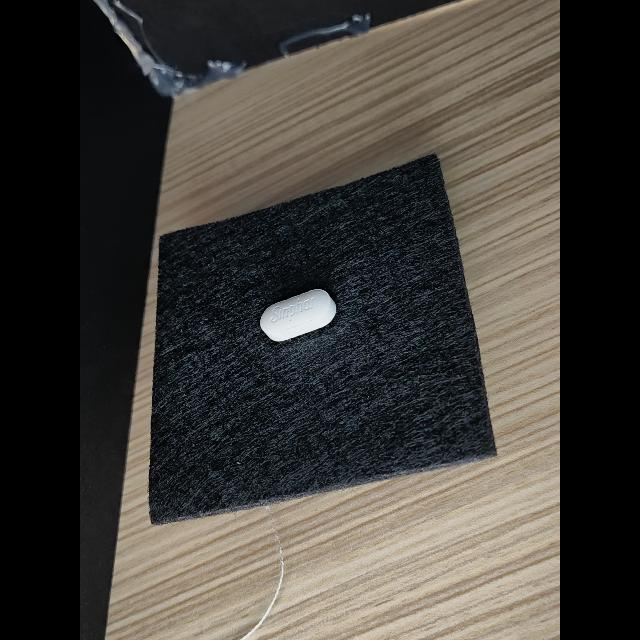Intact Pill: (260, 289, 336, 341)
